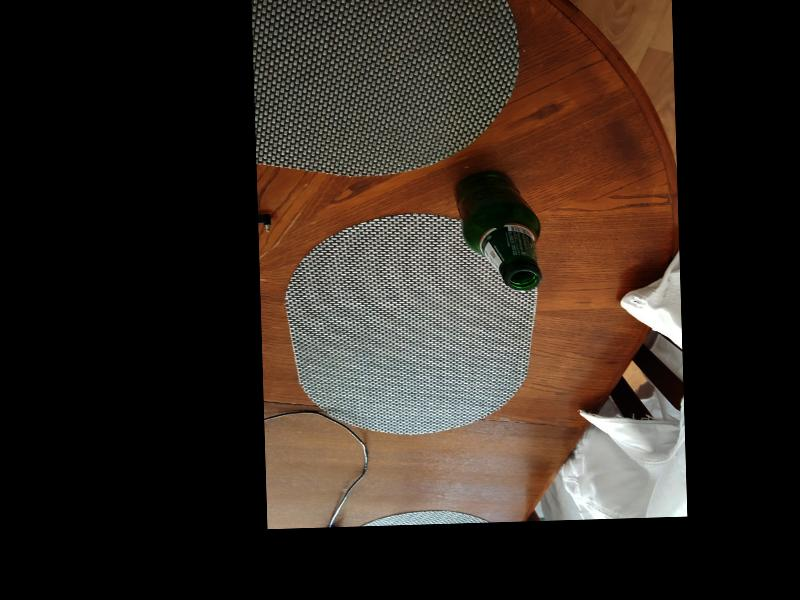Beer: (456, 167, 541, 292)
